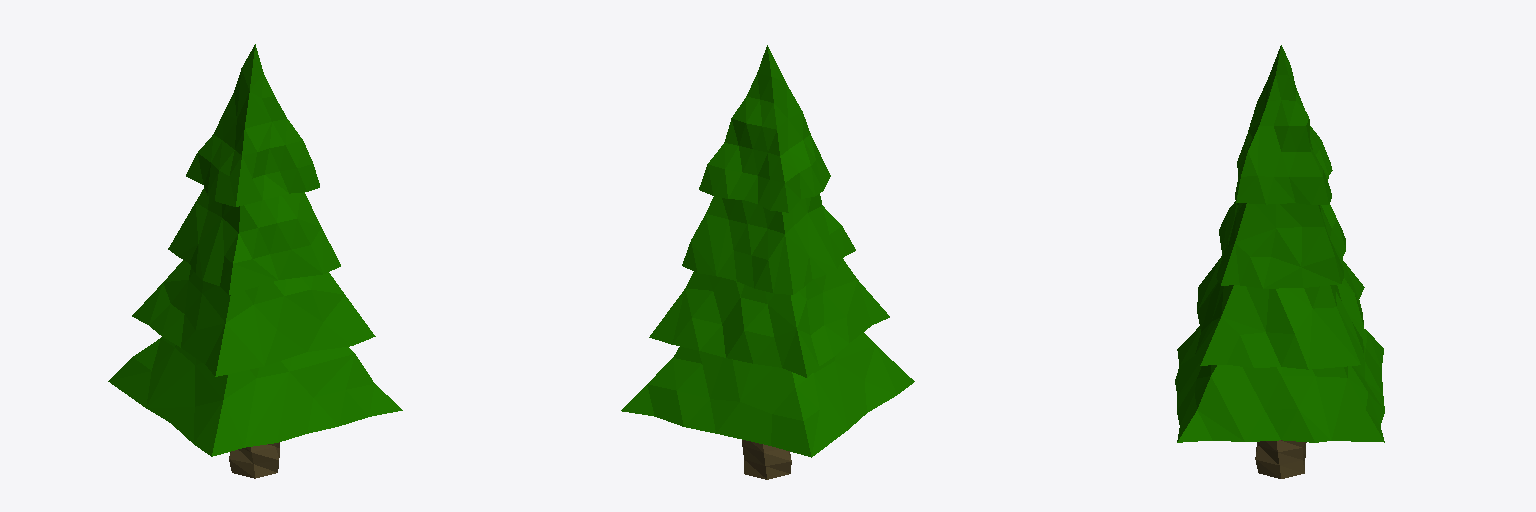
Rendered from tree2.obj.
3 renders of one model, left to right at view 1: azimuth 30°, elevation 25°; view 2: azimuth 150°, elevation 25°; view 3: azimuth 270°, elevation 25°, orthographic.
Visible parts, largest first — view 1: Leaves, Trunk; view 2: Leaves, Trunk; view 3: Leaves, Trunk.
Part boxes in pixels (bbox=[...]): Leaves: bbox=[108, 44, 402, 456]; Trunk: bbox=[229, 442, 279, 478]; Leaves: bbox=[621, 45, 914, 457]; Trunk: bbox=[742, 440, 791, 479]; Leaves: bbox=[1175, 45, 1384, 442]; Trunk: bbox=[1255, 440, 1306, 478].
Bounding box in the file's own units: 164 × 345 × 155.